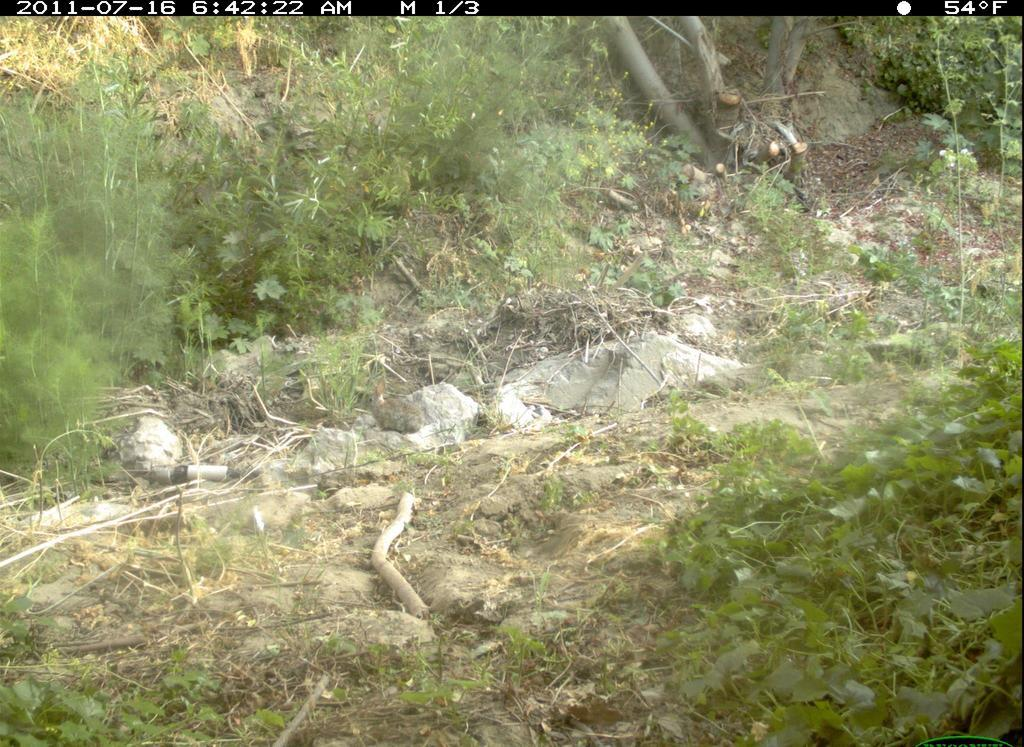rabbit: (364, 378, 427, 437)
